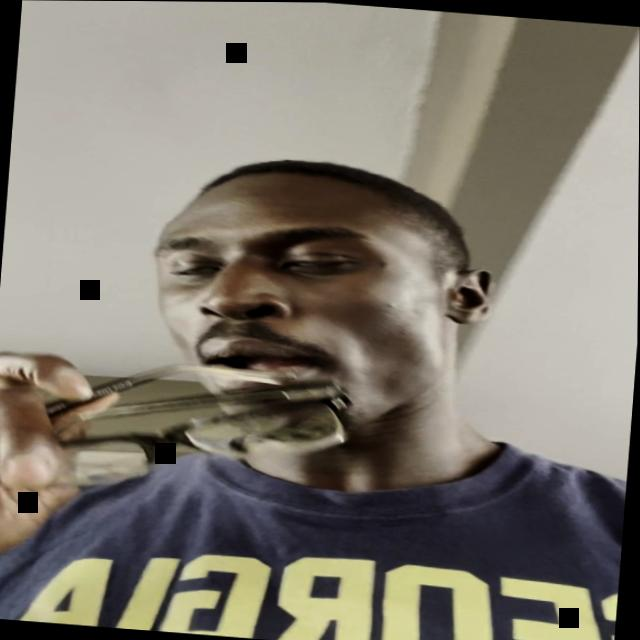NO-Mask: (120, 157, 488, 460)
